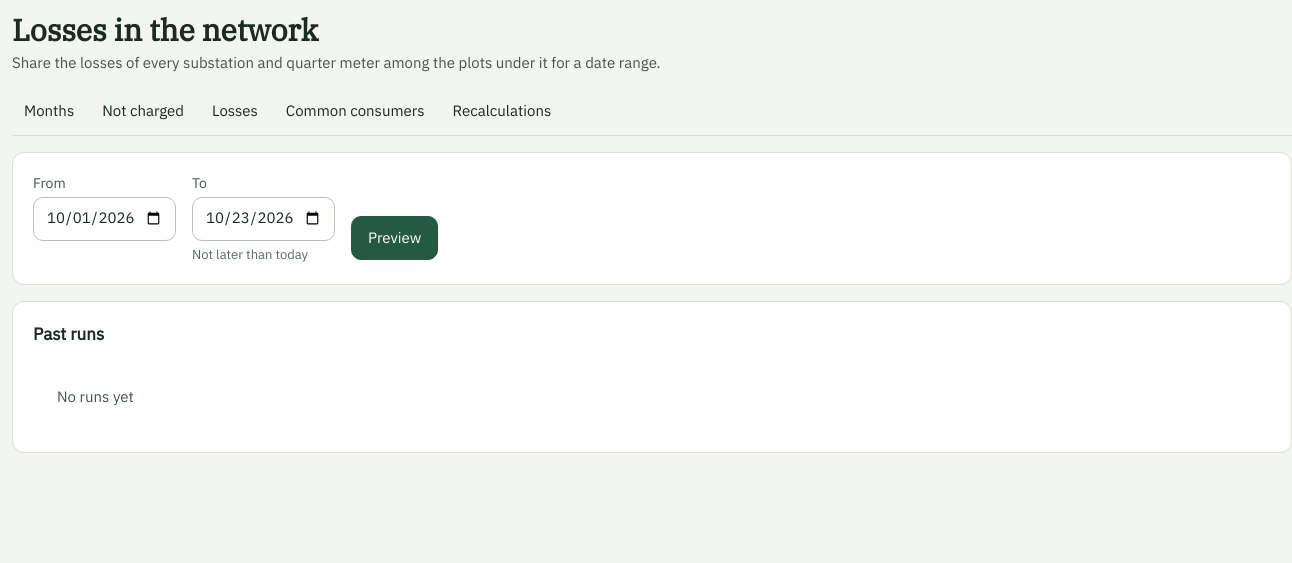
Test case: LossesPage › hints at the settings when losses are not proportional
Click the button "Preview" at (395, 238), box top-left (351, 216), bottom-right (438, 260)
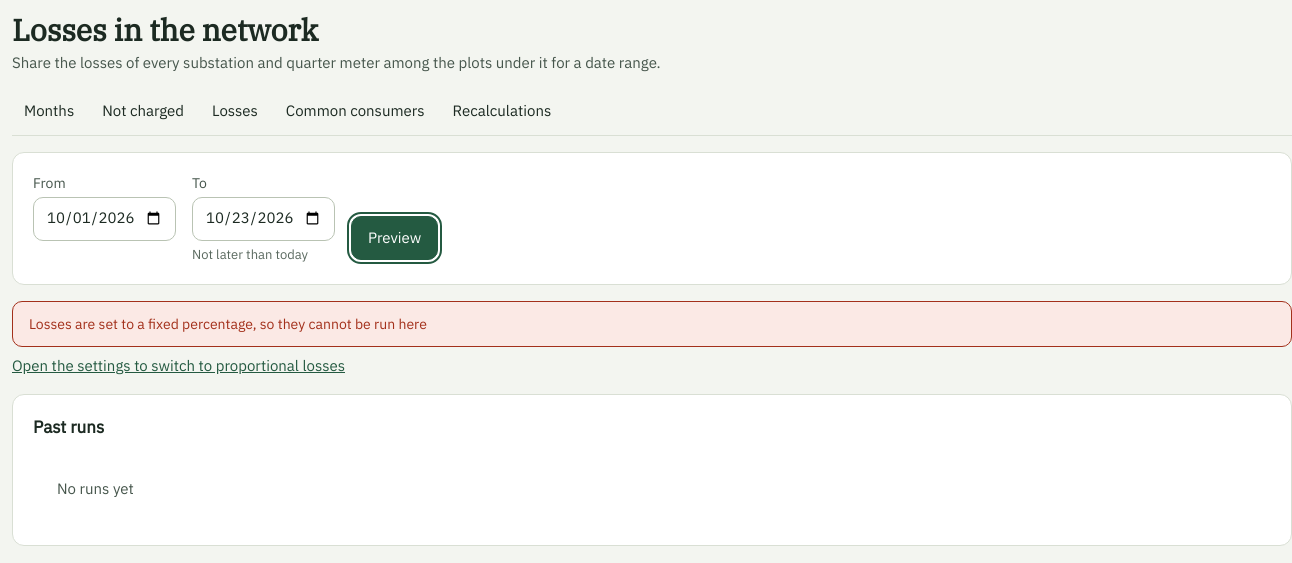
Now the message shows "set to a fixed percentage", box top-left (29, 315), bottom-right (427, 333)
